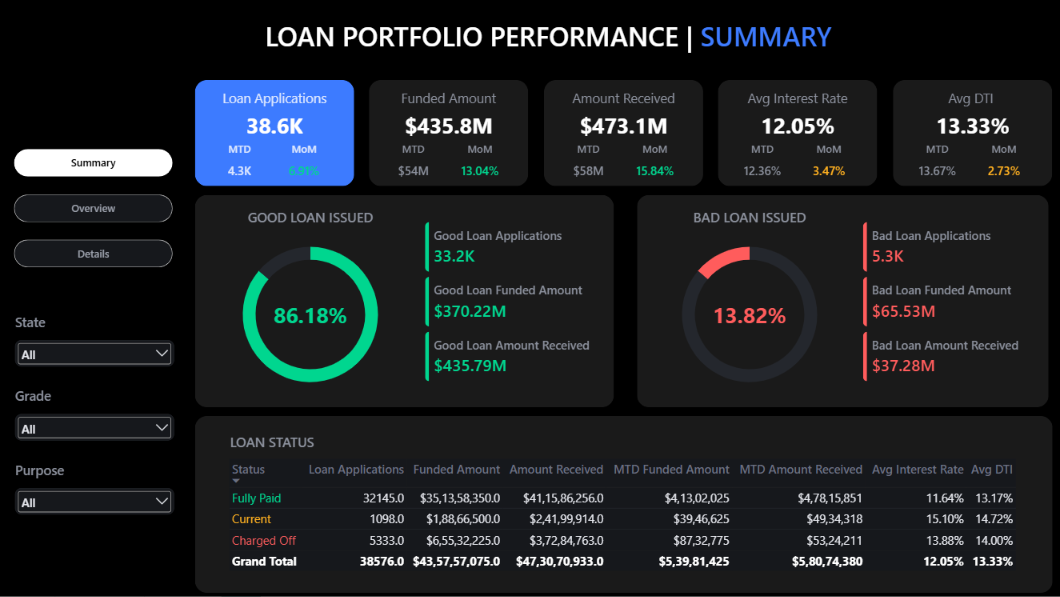

The page's visual inventory and layout, read from the dashboard file:
{"tool":"powerbi","page":{"name":"Summary","canvas":[1920,1080],"ordinal":0},"visuals":[{"type":"shape","box":[352,144,288,192],"z":0,"group":"g1"},{"type":"shape","box":[668,144,288,192],"z":0,"group":"g2"},{"type":"shape","box":[984,144,288,192],"z":0,"group":"g3"},{"type":"shape","box":[1300,144,288,192],"z":0,"group":"g4"},{"type":"shape","box":[1616,144,288,192],"z":0,"group":"g5"},{"type":"shape","box":[352,352,758,384],"z":0,"group":"g6"},{"type":"shape","box":[1152,352,745,384],"z":0,"group":"g7"},{"type":"shape","box":[352,752,1552,320],"z":0},{"type":"shape","box":[0,104,336,976],"z":1000},{"type":"cardVisual","fields":{"Data":["bank_loan.Applications"]},"box":[352,192,288,64],"z":1000,"group":"g1"},{"type":"cardVisual","fields":{"Data":["bank_loan.Funded Amount"]},"box":[668,192,288,64],"z":1000,"group":"g2"},{"type":"cardVisual","fields":{"Data":["bank_loan.Amount Received"]},"box":[984,192,288,64],"z":1000,"group":"g3"},{"type":"cardVisual","fields":{"Data":["bank_loan.Avg Interest Rate"]},"box":[1300,192,288,64],"z":1000,"group":"g4"},{"type":"cardVisual","fields":{"Data":["bank_loan.Avg DTI"]},"box":[1616,192,288,64],"z":1000,"group":"g5"},{"type":"donutChart","fields":{"Category":["bank_loan.Good vs Bad Loan"],"Y":["bank_loan.Applications"]},"box":[376.5,400,366.8,336],"z":1000,"group":"g6"},{"type":"donutChart","fields":{"Category":["bank_loan.Good vs Bad Loan"],"Y":["bank_loan.Applications"]},"box":[1176,400,360.5,336],"z":1000,"group":"g7"},{"type":"shape","box":[0,0,1920,112],"z":2000},{"type":"textbox","box":[352,160,288,32],"z":2000,"group":"g1"},{"type":"textbox","box":[668,160,288,32],"z":2000,"group":"g2"},{"type":"textbox","box":[984,160,288,32],"z":2000,"group":"g3"},{"type":"textbox","box":[1300,160,288,32],"z":2000,"group":"g4"},{"type":"textbox","box":[1616,160,288,32],"z":2000,"group":"g5"},{"type":"cardVisual","fields":{"Data":["bank_loan.Good Loan %"]},"box":[474.3,544,171.2,48],"z":2000,"group":"g6"},{"type":"cardVisual","fields":{"Data":["bank_loan.Bad Loan %"]},"box":[1272.2,544,168.2,48],"z":2000,"group":"g7"},{"type":"textbox","box":[336,32,1312,80],"z":3000},{"type":"cardVisual","title":"MTD","fields":{"Data":["bank_loan.MTD Loan Applications"]},"box":[384,256,96,64],"z":3000,"group":"g1"},{"type":"cardVisual","title":"MTD","fields":{"Data":["bank_loan.MTD Funded Amount"]},"box":[684,256,128,64],"z":3000,"group":"g2"},{"type":"cardVisual","title":"MTD","fields":{"Data":["bank_loan.MTD Amount Received"]},"box":[1000,256,128,64],"z":3000,"group":"g3"},{"type":"cardVisual","title":"MTD","fields":{"Data":["bank_loan.MTD Avg Interest Rate"]},"box":[1316,256,128,64],"z":3000,"group":"g4"},{"type":"cardVisual","title":"MTD","fields":{"Data":["bank_loan.MTD Avg DTI"]},"box":[1632,256,128,64],"z":3000,"group":"g5"},{"type":"textbox","box":[376.5,376,366.8,48],"z":3000,"group":"g6"},{"type":"textbox","box":[1176,376,360.5,48],"z":3000,"group":"g7"},{"type":"cardVisual","title":"MoM","fields":{"Data":["bank_loan.MoM Loan Application"]},"box":[503.6,256,90.9,64],"z":4000,"group":"g1"},{"type":"cardVisual","title":"MoM","fields":{"Data":["bank_loan.MoM Funded Amount"]},"box":[812,256,112,64],"z":4000,"group":"g2"},{"type":"cardVisual","title":"MoM","fields":{"Data":["bank_loan.MoM Amount Received"]},"box":[1128,256,112,64],"z":4000,"group":"g3"},{"type":"cardVisual","title":"MoM","fields":{"Data":["bank_loan.MoM Avg Interest Ratet"]},"box":[1444,256,112,64],"z":4000,"group":"g4"},{"type":"cardVisual","title":"MoM","fields":{"Data":["bank_loan.MoM Avg DTI"]},"box":[1760,256,112,64],"z":4000,"group":"g5"},{"type":"cardVisual","fields":{"Data":["bank_loan.Good Loan Applications","bank_loan.Good Loan Funded","bank_loan.Good Loan Received"]},"box":[767.7,400,342.3,312],"z":4000,"group":"g6"},{"type":"cardVisual","fields":{"Data":["bank_loan.Bad Loan Applications","bank_loan.Bad Loan Funded Amount","bank_loan.Bad Loan Amount Received"]},"box":[1560.5,400,336.5,312],"z":4000,"group":"g7"},{"type":"textbox","box":[416,784,288,32],"z":4000},{"type":"group","id":"g1","title":"Group 1","box":[352,144,288,192],"z":5000},{"type":"group","id":"g2","title":"Group 1","box":[668,144,288,192],"z":6000},{"type":"group","id":"g3","title":"Group 1","box":[984,144,288,192],"z":7000},{"type":"group","id":"g4","title":"Group 1","box":[1300,144,288,192],"z":8000},{"type":"group","id":"g5","title":"Group 1","box":[1616,144,288,192],"z":9000},{"type":"group","id":"g6","title":"Group 2","box":[352,352,752,384],"z":10000},{"type":"group","id":"g7","title":"Group 2","box":[1152,352,752,384],"z":11000},{"type":"tableEx","fields":{"Values":["bank_loan.loan_status","bank_loan.Applications","bank_loan.Funded Amount","bank_loan.Amount Received","bank_loan.MTD Funded Amount","bank_loan.MTD Amount Received","bank_loan.Avg Interest Rate","bank_loan.Avg DTI"]},"box":[400,816,1456,240],"z":12000},{"type":"group","id":"g8","title":"Group 3","box":[27.1,566.4,288,96],"z":13000},{"type":"slicer","fields":{"Values":["bank_loan.address_state"]},"box":[27.1,614.4,288,48],"z":14000,"group":"g8"},{"type":"group","id":"g9","title":"Group 3","box":[27.1,700.4,287.7,95.9],"z":14000},{"type":"slicer","fields":{"Values":["bank_loan.grade"]},"box":[27.1,748.4,288,48],"z":14000,"group":"g9"},{"type":"slicer","fields":{"Values":["bank_loan.purpose"]},"box":[27.1,882.3,288,48],"z":14000,"group":"g10"},{"type":"textbox","box":[27.1,566.4,264,40],"z":15000,"group":"g8"},{"type":"textbox","box":[27.1,700.4,264,40],"z":15000,"group":"g9"},{"type":"textbox","box":[27.1,834.3,264,40],"z":15000,"group":"g10"},{"type":"group","id":"g10","title":"Group 3","box":[27.1,834.3,287.7,95.9],"z":15000},{"type":"pageNavigator","box":[25.3,269.6,287.7,215.3],"z":16000}]}

Visuals, with their boxes in screenshot pixels (x1, y1, x2, y2), scaled from the page's 1920x1080 canvas onto the 1060x597 screenshot:
shape: BBox(194, 80, 353, 186)
shape: BBox(369, 80, 528, 186)
shape: BBox(543, 80, 702, 186)
shape: BBox(718, 80, 877, 186)
shape: BBox(892, 80, 1051, 186)
shape: BBox(194, 195, 613, 407)
shape: BBox(636, 195, 1047, 407)
shape: BBox(194, 416, 1051, 593)
shape: BBox(0, 57, 186, 596)
cardVisual - bank_loan.Applications: BBox(194, 106, 353, 142)
cardVisual - bank_loan.Funded Amount: BBox(369, 106, 528, 142)
cardVisual - bank_loan.Amount Received: BBox(543, 106, 702, 142)
cardVisual - bank_loan.Avg Interest Rate: BBox(718, 106, 877, 142)
cardVisual - bank_loan.Avg DTI: BBox(892, 106, 1051, 142)
donutChart - bank_loan.Good vs Bad Loan x bank_loan.Applications: BBox(208, 221, 410, 407)
donutChart - bank_loan.Good vs Bad Loan x bank_loan.Applications: BBox(649, 221, 848, 407)
shape: BBox(0, 0, 1059, 62)
textbox: BBox(194, 88, 353, 106)
textbox: BBox(369, 88, 528, 106)
textbox: BBox(543, 88, 702, 106)
textbox: BBox(718, 88, 877, 106)
textbox: BBox(892, 88, 1051, 106)
cardVisual - bank_loan.Good Loan %: BBox(262, 301, 356, 327)
cardVisual - bank_loan.Bad Loan %: BBox(702, 301, 795, 327)
textbox: BBox(186, 18, 910, 62)
"MTD" cardVisual: BBox(212, 142, 265, 177)
"MTD" cardVisual: BBox(378, 142, 448, 177)
"MTD" cardVisual: BBox(552, 142, 623, 177)
"MTD" cardVisual: BBox(727, 142, 797, 177)
"MTD" cardVisual: BBox(901, 142, 972, 177)
textbox: BBox(208, 208, 410, 234)
textbox: BBox(649, 208, 848, 234)
"MoM" cardVisual: BBox(278, 142, 328, 177)
"MoM" cardVisual: BBox(448, 142, 510, 177)
"MoM" cardVisual: BBox(623, 142, 685, 177)
"MoM" cardVisual: BBox(797, 142, 859, 177)
"MoM" cardVisual: BBox(972, 142, 1034, 177)
cardVisual - bank_loan.Good Loan Applications x bank_loan.Good Loan Funded: BBox(424, 221, 613, 394)
cardVisual - bank_loan.Bad Loan Applications x bank_loan.Bad Loan Funded Amount: BBox(862, 221, 1047, 394)
textbox: BBox(230, 433, 389, 451)
"Group 1" group: BBox(194, 80, 353, 186)
"Group 1" group: BBox(369, 80, 528, 186)
"Group 1" group: BBox(543, 80, 702, 186)
"Group 1" group: BBox(718, 80, 877, 186)
"Group 1" group: BBox(892, 80, 1051, 186)
"Group 2" group: BBox(194, 195, 610, 407)
"Group 2" group: BBox(636, 195, 1051, 407)
tableEx - bank_loan.loan_status x bank_loan.Applications: BBox(221, 451, 1025, 584)
"Group 3" group: BBox(15, 313, 174, 366)
slicer - bank_loan.address_state: BBox(15, 340, 174, 366)
"Group 3" group: BBox(15, 387, 174, 440)
slicer - bank_loan.grade: BBox(15, 414, 174, 440)
slicer - bank_loan.purpose: BBox(15, 488, 174, 514)
textbox: BBox(15, 313, 161, 335)
textbox: BBox(15, 387, 161, 409)
textbox: BBox(15, 461, 161, 483)
"Group 3" group: BBox(15, 461, 174, 514)
pageNavigator: BBox(14, 149, 173, 268)
